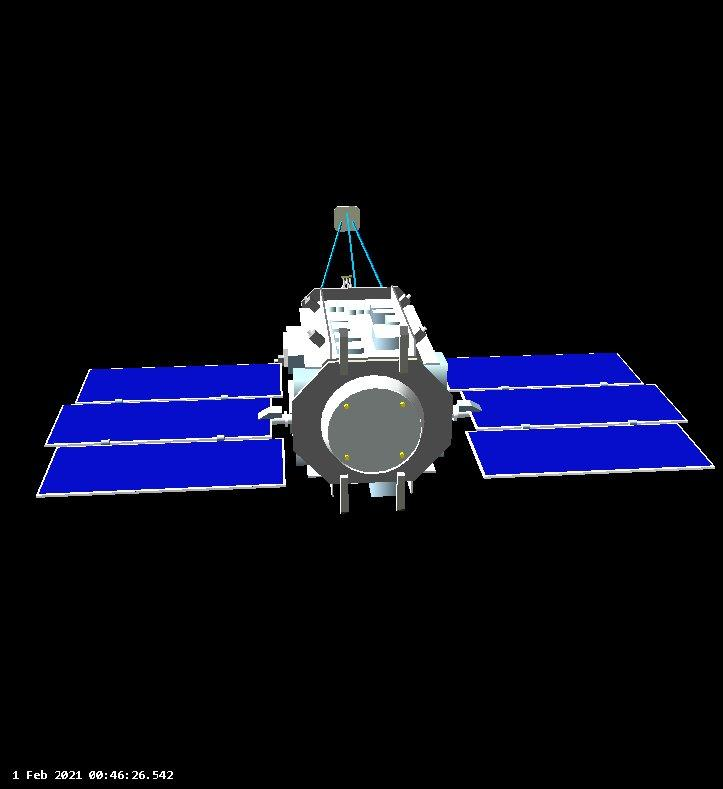antenna: (332, 200, 362, 237)
body: (279, 279, 455, 513)
solar: (32, 439, 288, 498), (464, 423, 716, 482), (457, 381, 701, 429), (40, 396, 279, 443), (442, 344, 647, 387), (73, 364, 291, 400)
